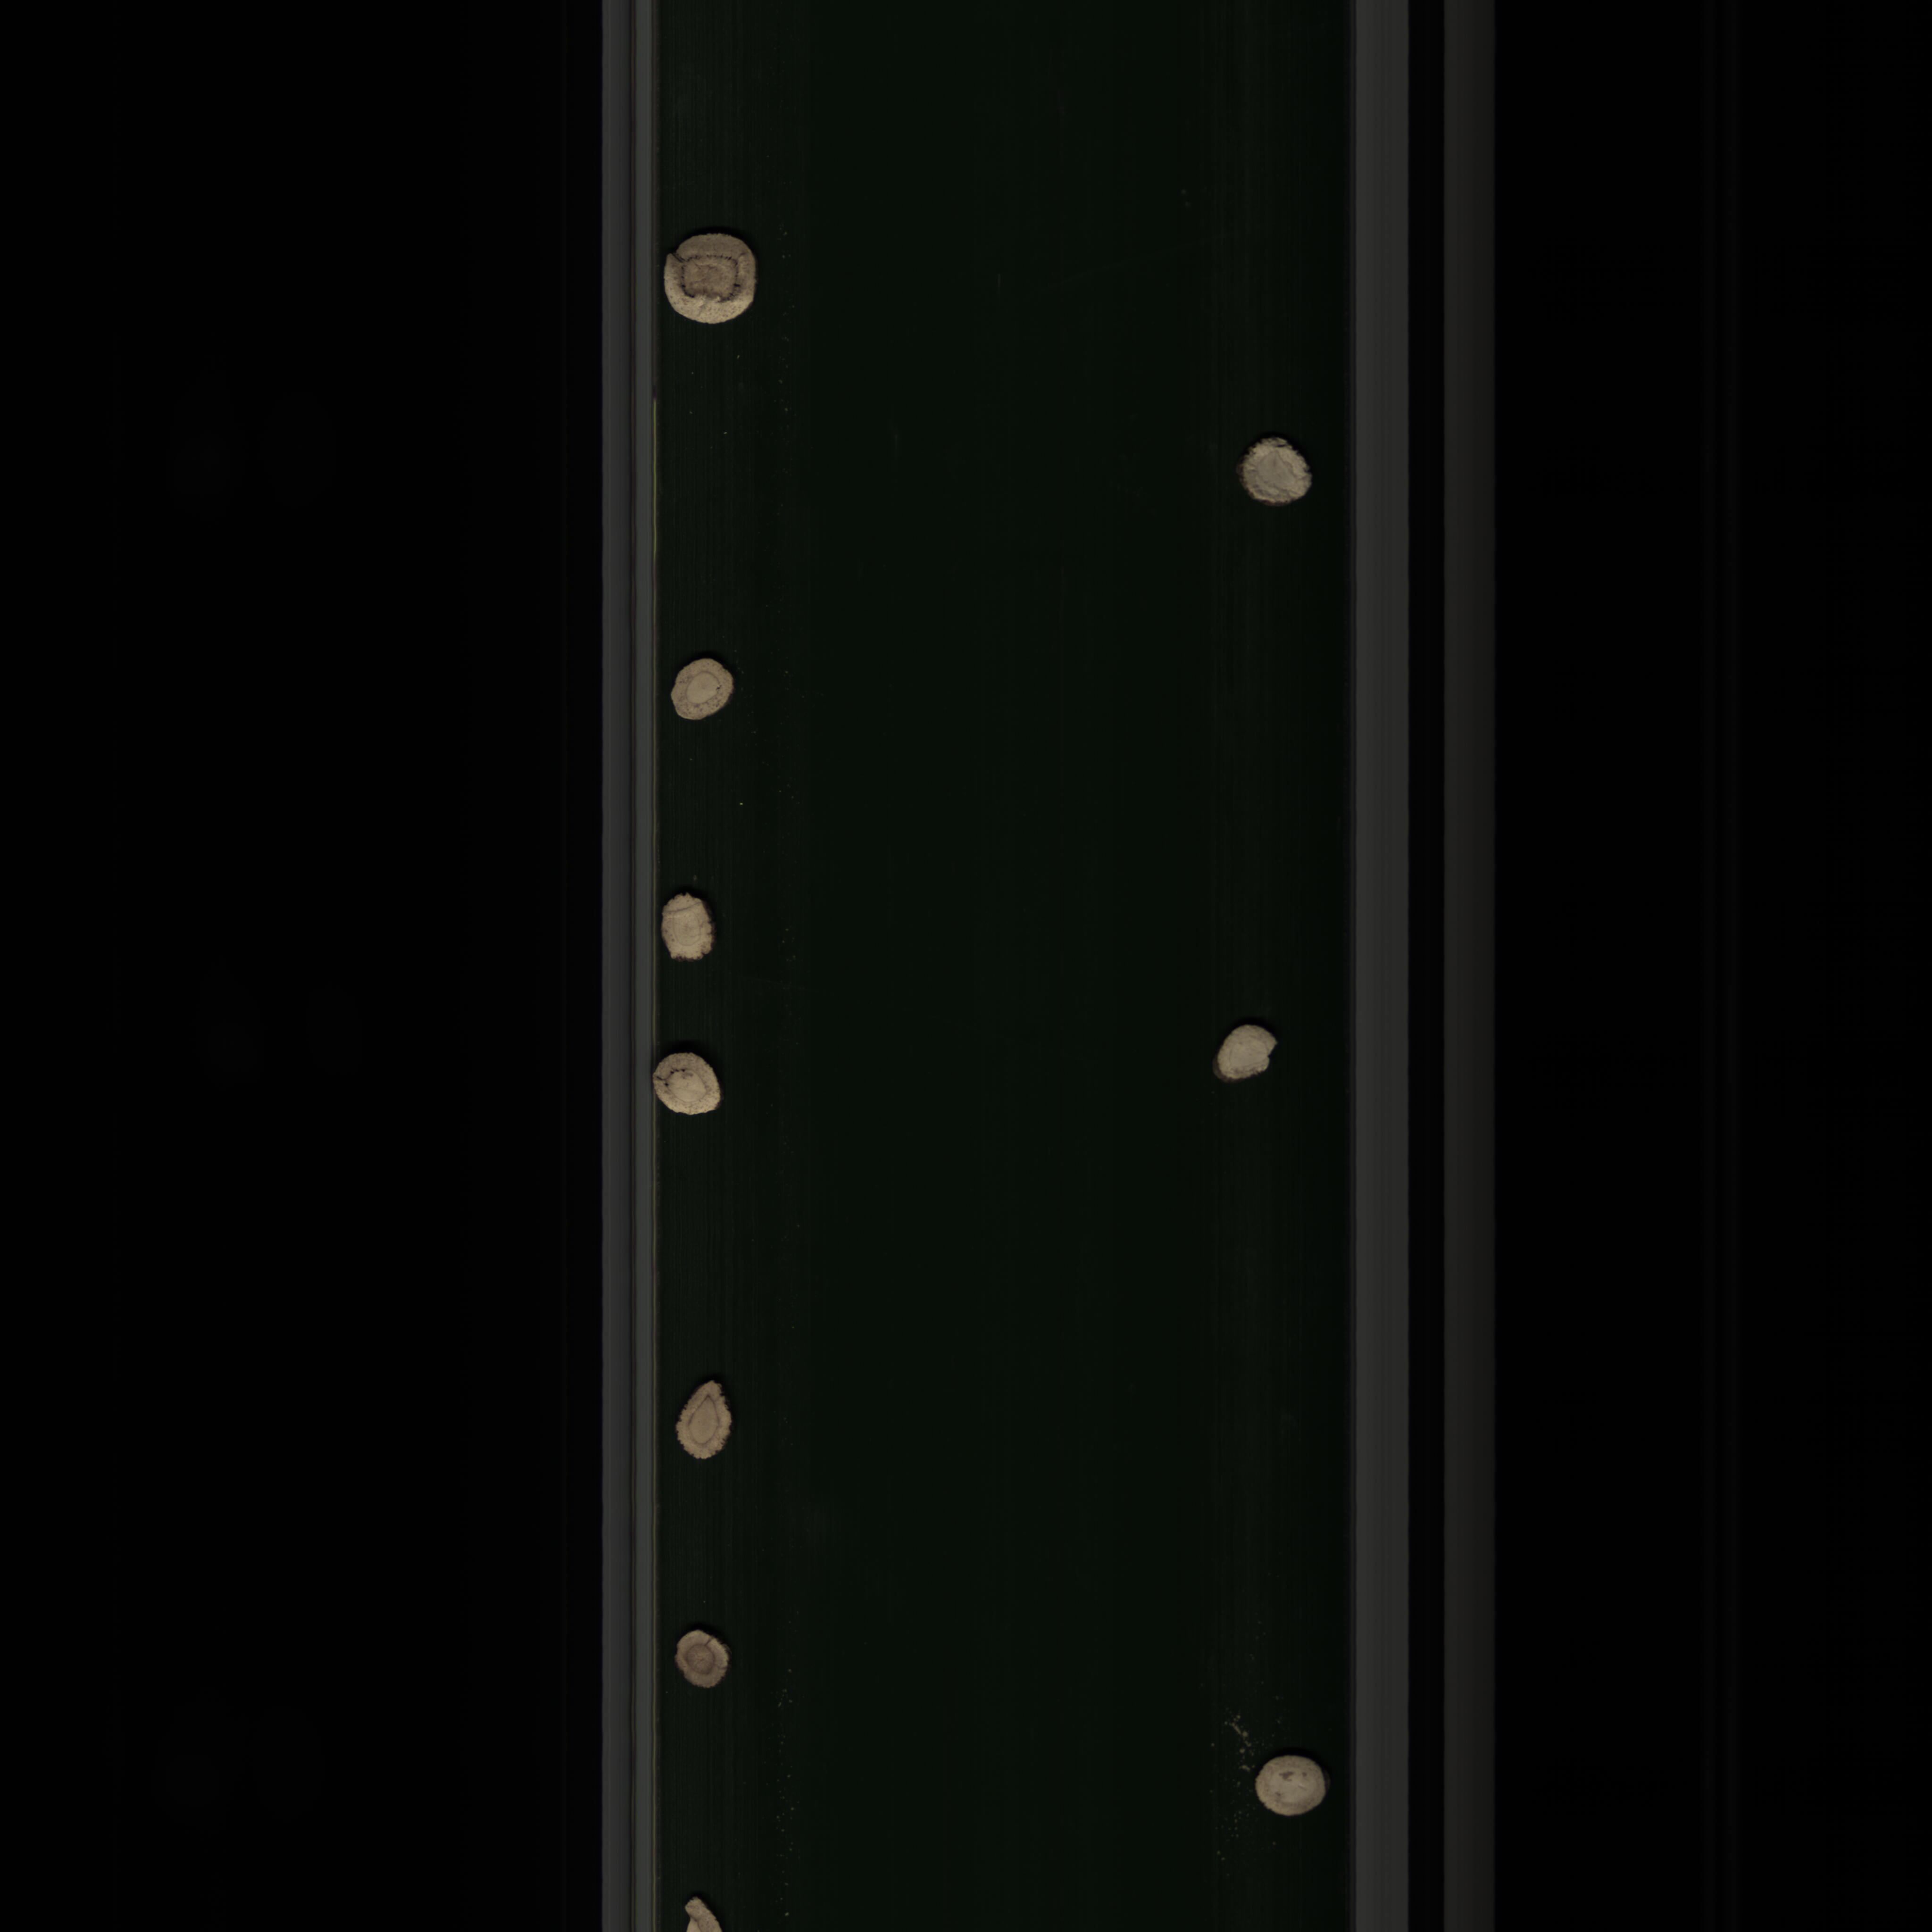debris: (1208, 1017, 1284, 1088)
hole: (648, 1051, 732, 1120)
moldy: (656, 230, 766, 334), (665, 1629, 740, 1704)
